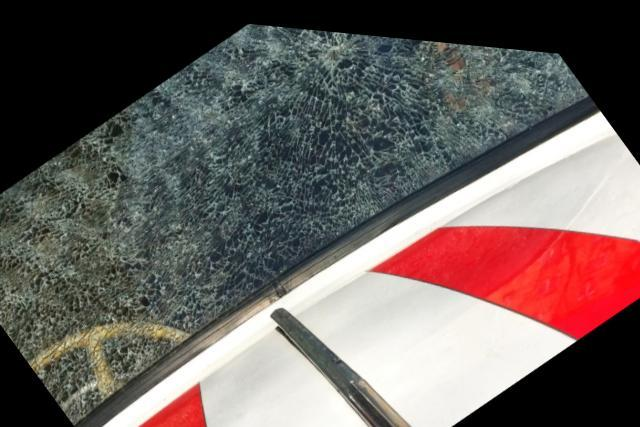glass shatter: (0, 19, 589, 423)
